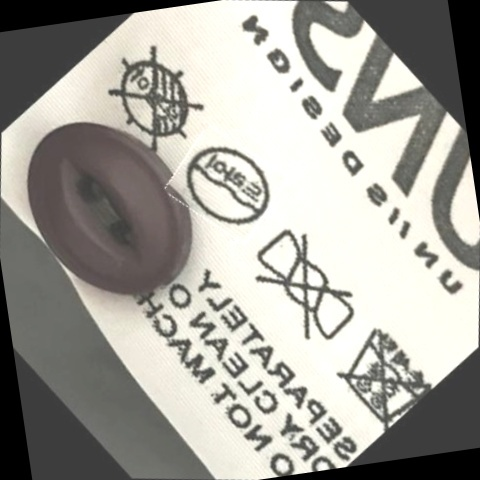DN_dry: (96, 39, 215, 159)
DN_wring: (238, 222, 372, 355)
dry_clean: (173, 131, 281, 241)
hand_wash: (325, 311, 438, 433)
